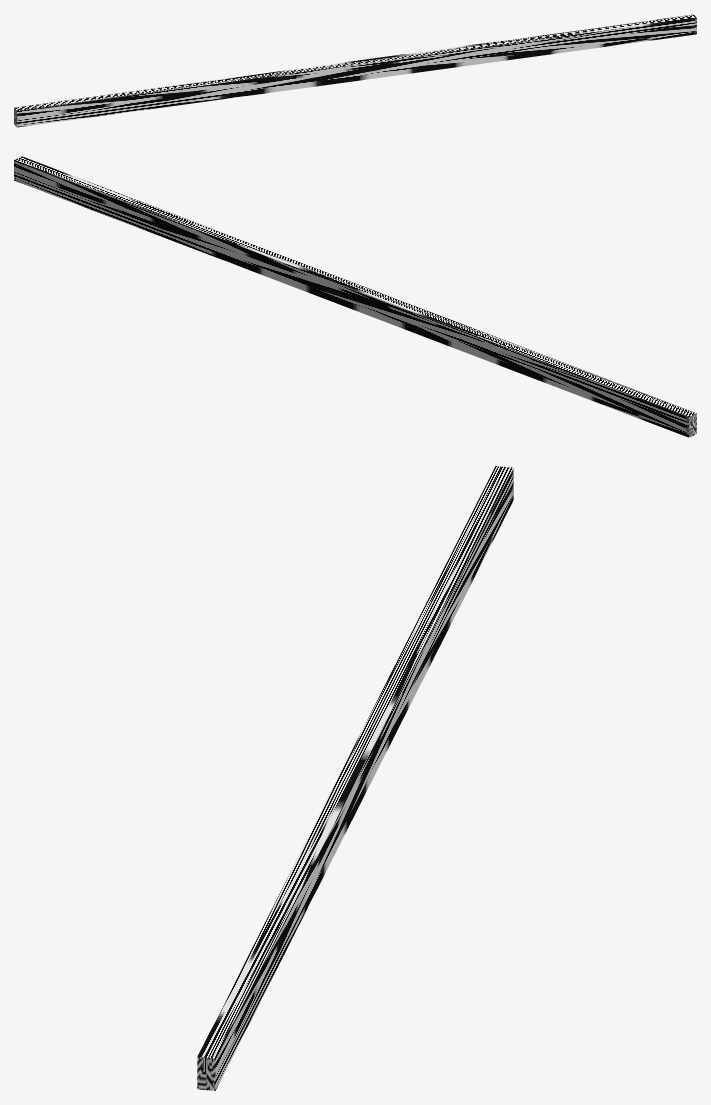
3 renders of one model, top to bottom at view 1: azimuth 30°, elevation 25°; view 2: azimuth 150°, elevation 25°; view 3: azimuth 270°, elevation 25°, orthographic. The views are drawn at different scales.
Visible parts, largest first — view 1: Cube.029; view 2: Cube.029; view 3: Cube.029.
Part boxes in pixels (x1,y1,x2,y2): Cube.029: [14, 14, 696, 127]; Cube.029: [14, 156, 696, 437]; Cube.029: [197, 466, 513, 1090].
Size of the model in its own units: 22.2 by 0.5648 by 5.01.
1 material, 1 textured.
